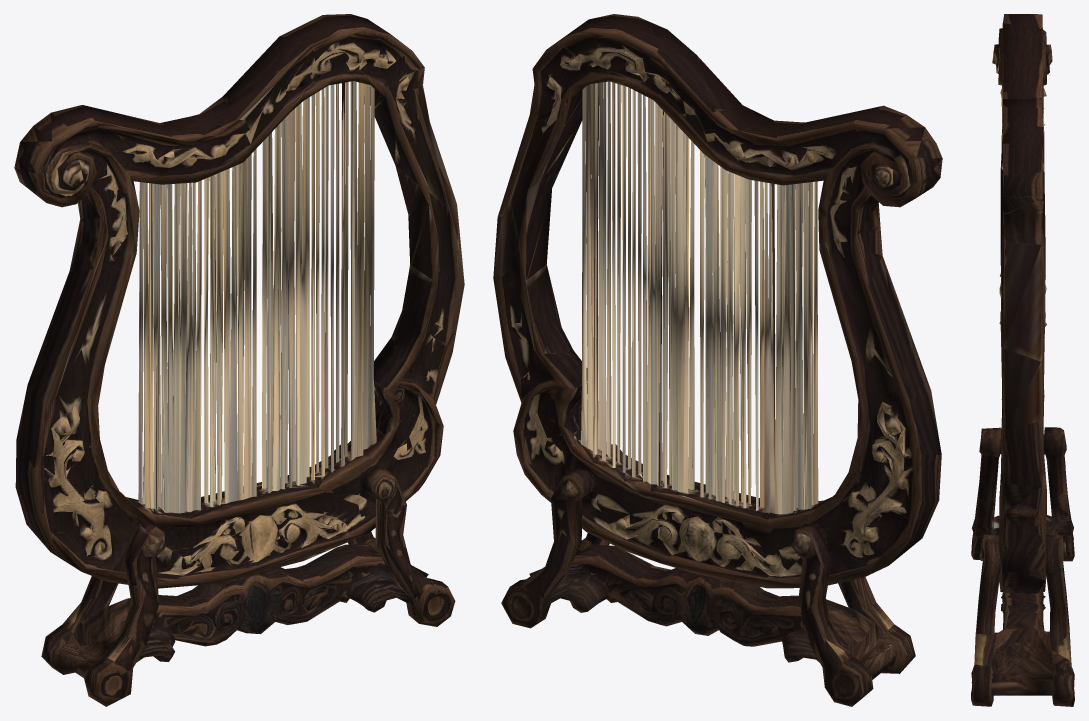
The model's file is harp.glb.
3 views of the same model, side by side, from view 1: azimuth 30°, elevation 25°; view 2: azimuth 150°, elevation 25°; view 3: azimuth 270°, elevation 25° (orthographic). The views are drawn at different scales.
Visible parts, largest first — view 1: body; view 2: body; view 3: body.
Part boxes in pixels (x1=…): body: x1=14, y1=14, x2=464, y2=706; body: x1=493, y1=14, x2=942, y2=706; body: x1=971, y1=14, x2=1074, y2=706.
Bounding box in the file's own units: 0.8211 × 1.1 × 0.1846.
Materials: 1 (1 with a texture image).
